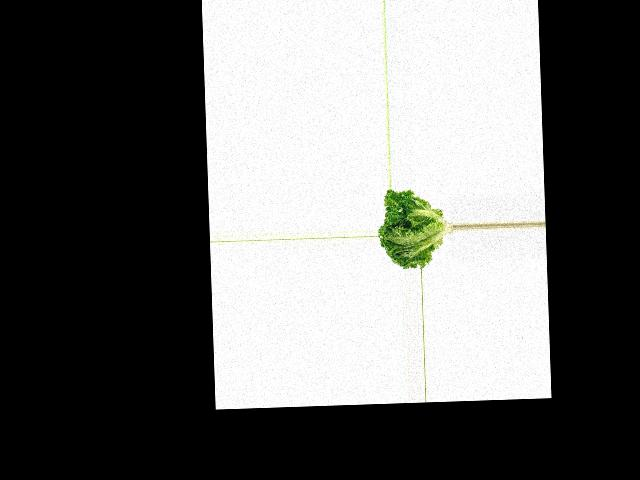lettuce: (377, 188, 454, 270)
